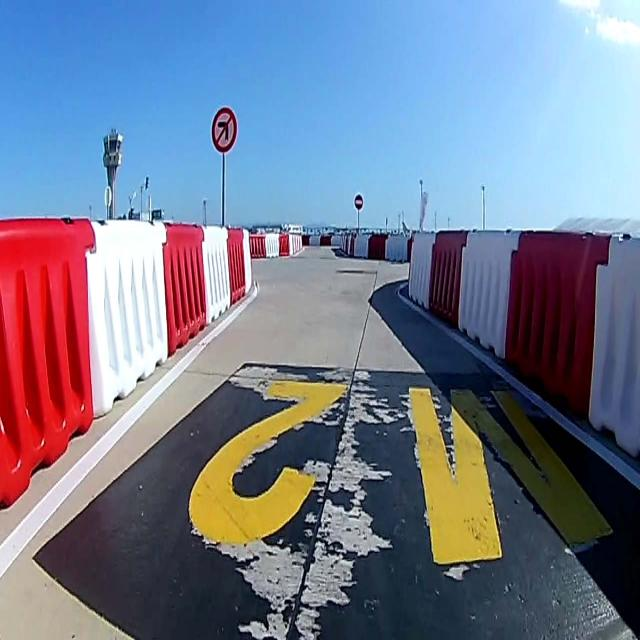girisyok: (354, 193, 363, 211)
soladonulmez: (210, 107, 238, 153)
